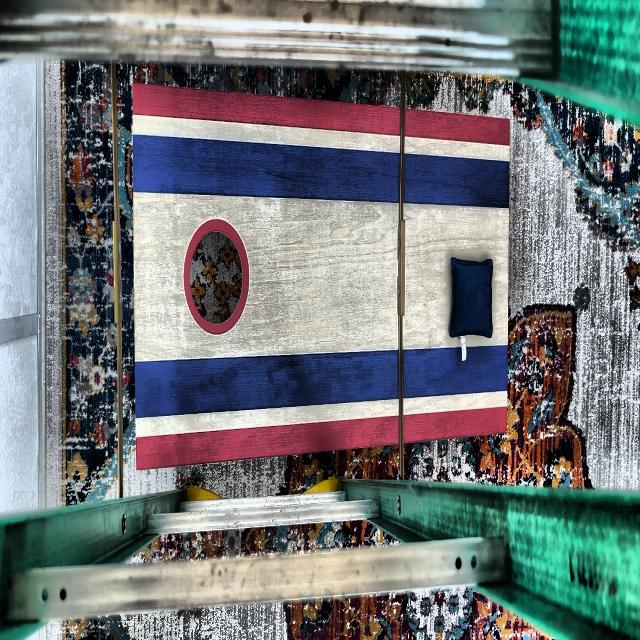blue-bean-bag: (450, 258, 492, 338)
board: (135, 120, 506, 432)
hole: (184, 217, 249, 335)
